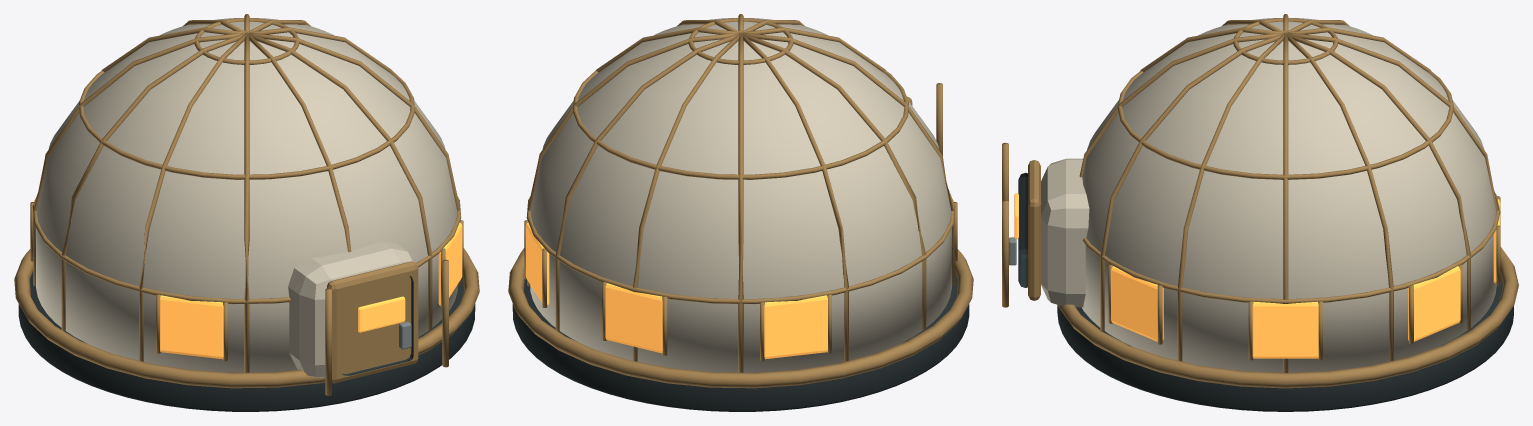
Rendered from dome-d02.glb.
The picture shows the model from 3 angles, left to right: view 1: azimuth 30°, elevation 25°; view 2: azimuth 150°, elevation 25°; view 3: azimuth 270°, elevation 25°; orthographic projection.
Visible parts, largest first — view 1: H01 batch 02 / Ares S02 / ceramic pressure shell, H01 batch 01 / Ares S02 / brushed bronze, H01 batch 00 / Ares S02 / charcoal seals, H01 batch 03 / Ares S02 / warm interior glazing; view 2: H01 batch 02 / Ares S02 / ceramic pressure shell, H01 batch 01 / Ares S02 / brushed bronze, H01 batch 00 / Ares S02 / charcoal seals, H01 batch 03 / Ares S02 / warm interior glazing; view 3: H01 batch 02 / Ares S02 / ceramic pressure shell, H01 batch 01 / Ares S02 / brushed bronze, H01 batch 00 / Ares S02 / charcoal seals, H01 batch 03 / Ares S02 / warm interior glazing.
Part boxes in pixels (x1,y1,x2,y2): H01 batch 02 / Ares S02 / ceramic pressure shell: (36,18,457,377); H01 batch 01 / Ares S02 / brushed bronze: (14,14,479,395); H01 batch 00 / Ares S02 / charcoal seals: (18,271,475,411); H01 batch 03 / Ares S02 / warm interior glazing: (33,198,462,359); H01 batch 02 / Ares S02 / ceramic pressure shell: (530,18,951,372); H01 batch 01 / Ares S02 / brushed bronze: (508,14,973,388); H01 batch 00 / Ares S02 / charcoal seals: (512,271,969,411); H01 batch 03 / Ares S02 / warm interior glazing: (525,198,954,359); H01 batch 02 / Ares S02 / ceramic pressure shell: (1041,18,1496,372); H01 batch 01 / Ares S02 / brushed bronze: (1002,14,1518,388); H01 batch 00 / Ares S02 / charcoal seals: (1018,172,1513,411); H01 batch 03 / Ares S02 / warm interior glazing: (1014,193,1500,358).
Bounding box in the file's own units: 1.61 × 1.08 × 1.79.
